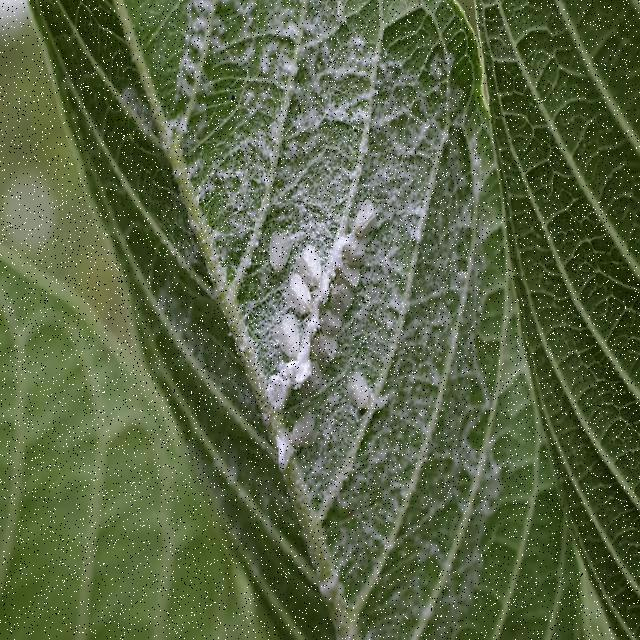Whiteflies: (170, 38, 460, 178), (262, 195, 296, 272), (278, 250, 313, 319), (346, 379, 396, 427), (273, 306, 308, 374), (350, 192, 387, 244), (334, 259, 367, 309), (284, 412, 319, 455), (337, 235, 389, 263), (330, 287, 365, 324), (303, 229, 325, 287), (309, 327, 339, 368), (322, 309, 349, 347)
